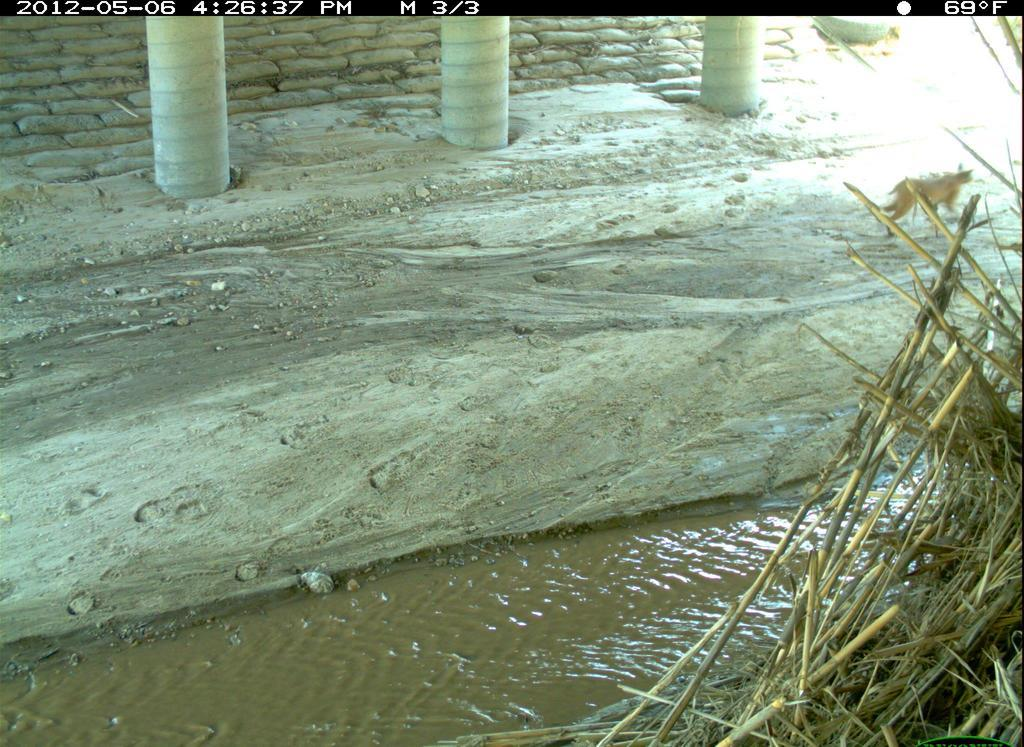bobcat: (870, 162, 984, 244)
